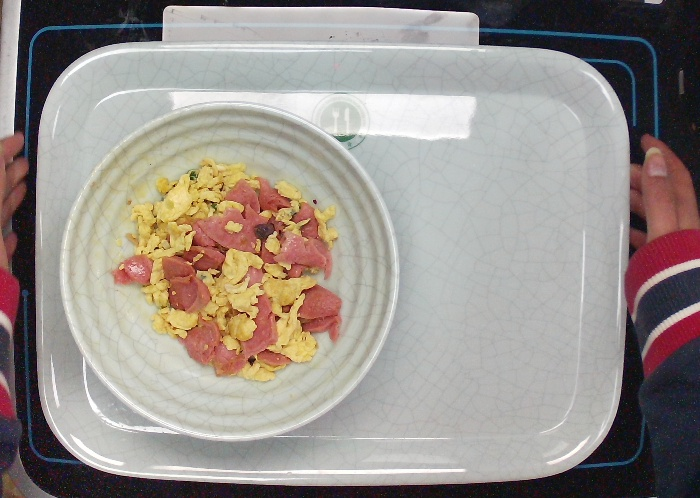JYsf-Da_Tang_Wan: (57, 99, 401, 444)
